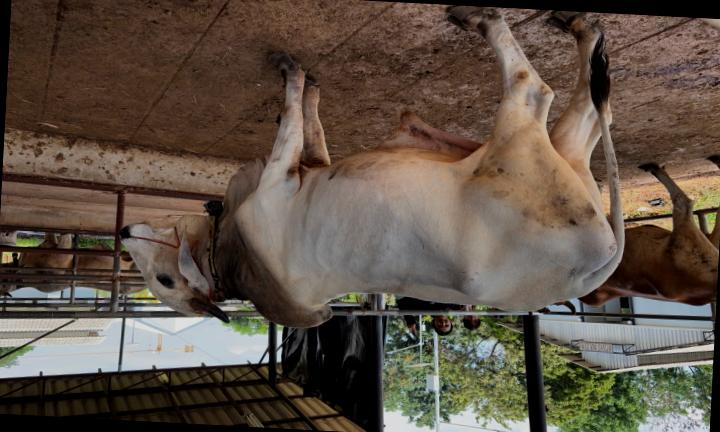Brahman: (120, 5, 624, 327)
